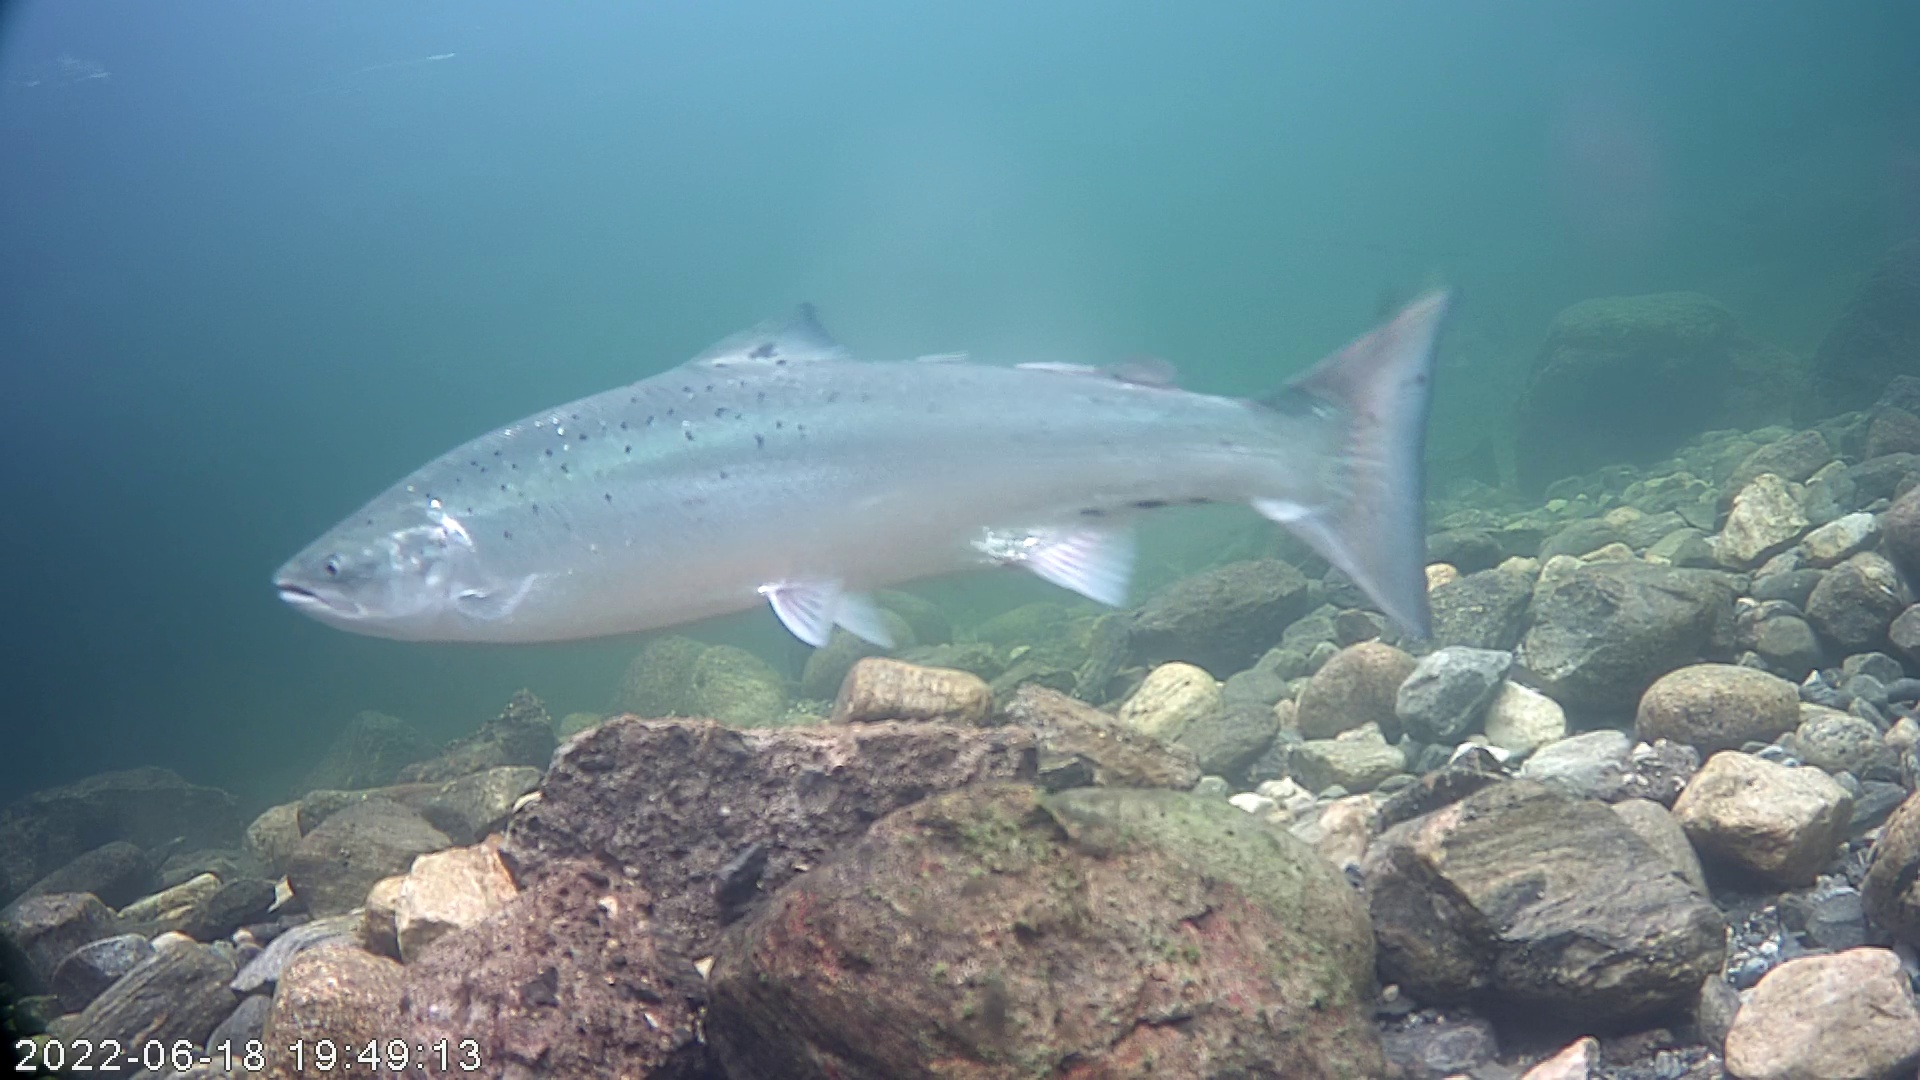salmon: (272, 280, 1455, 651)
